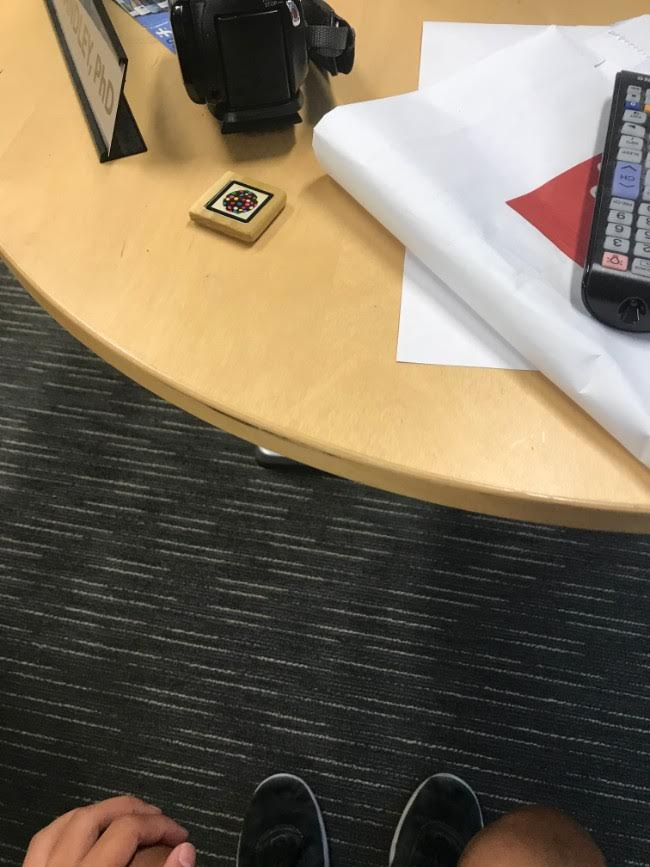cookie: (204, 179, 274, 222)
